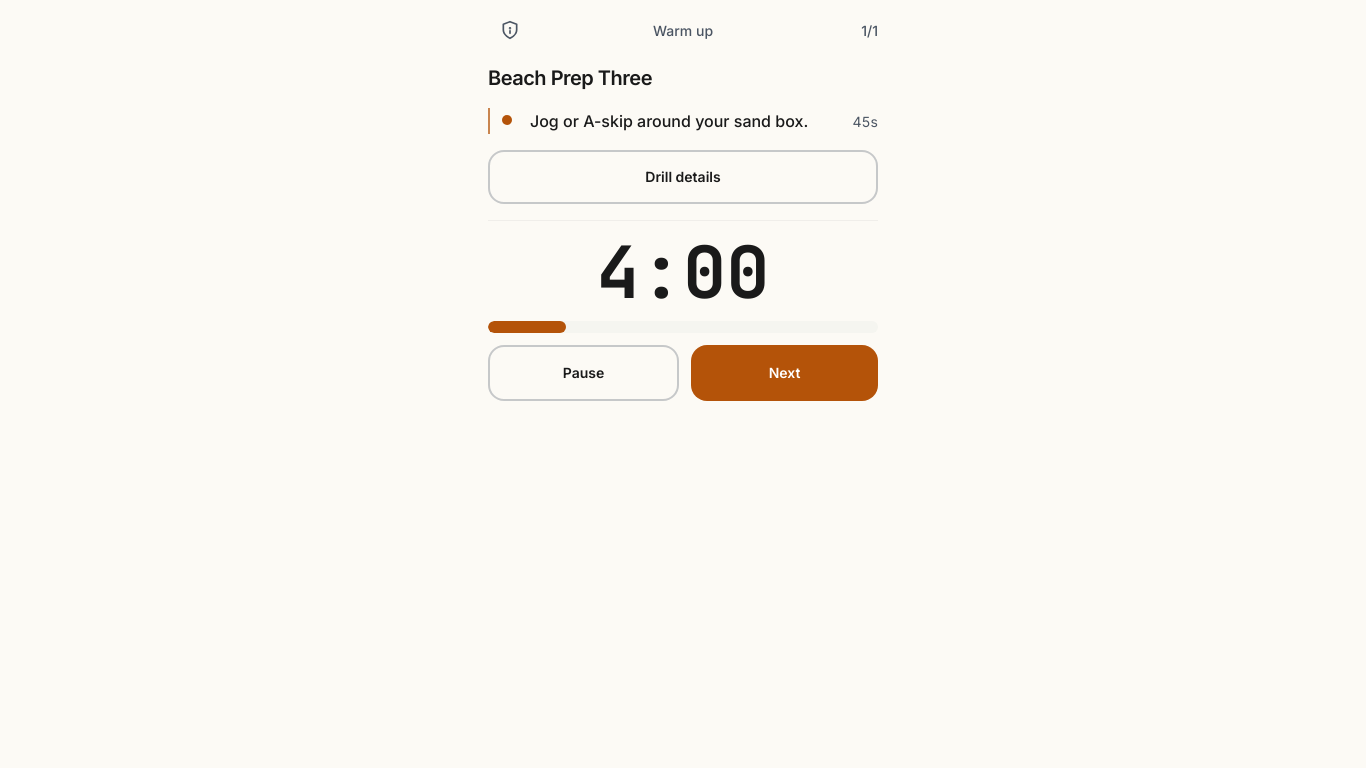
Test: RunScreen Run Face v1 › routes segmented extra cues into the Drill details overlay without the on-screen read
This screenshot has width=1366, height=768.
What coordinates should you click on to do the following:
click the button "Drill details"
I would click on:
 (683, 177)
Its box is [488, 150, 878, 204].
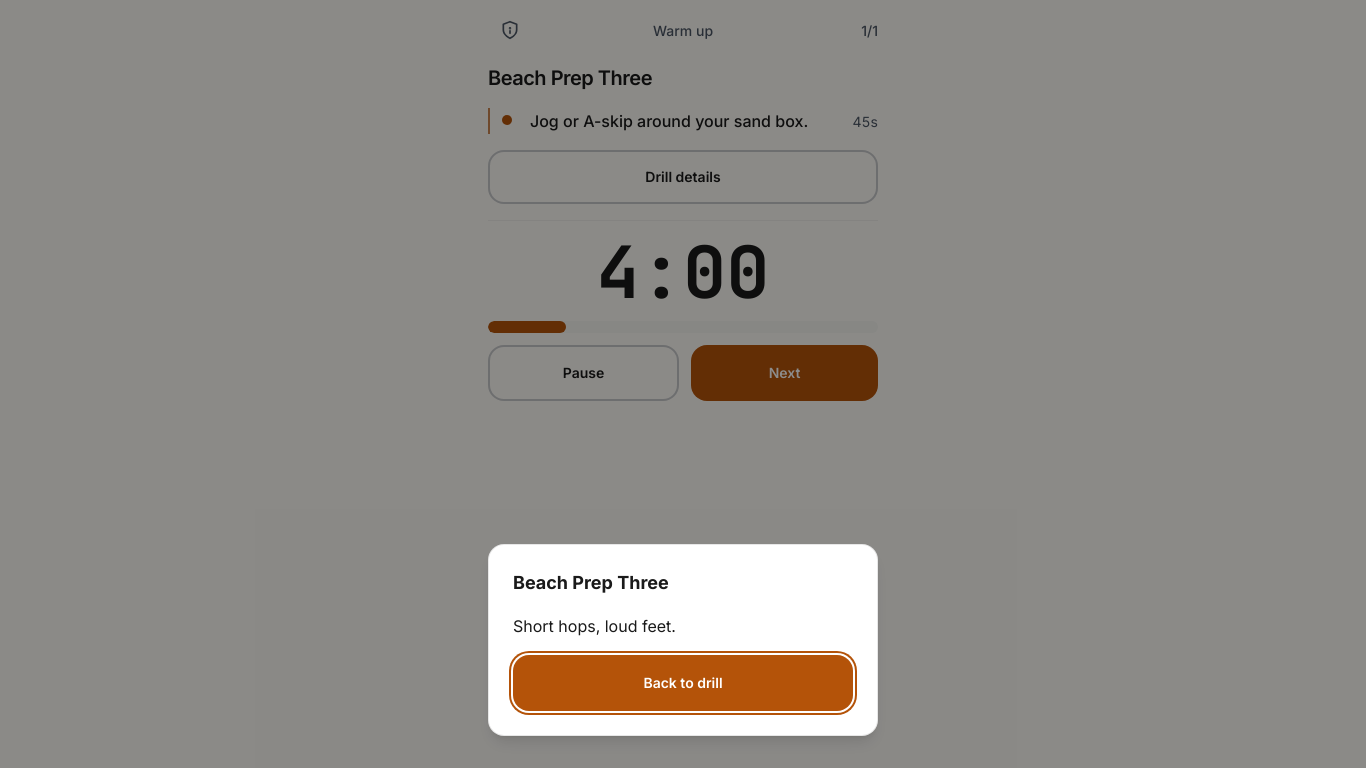
Check: the text "Short hops, loud feet." is shown, box [513, 616, 676, 636]
